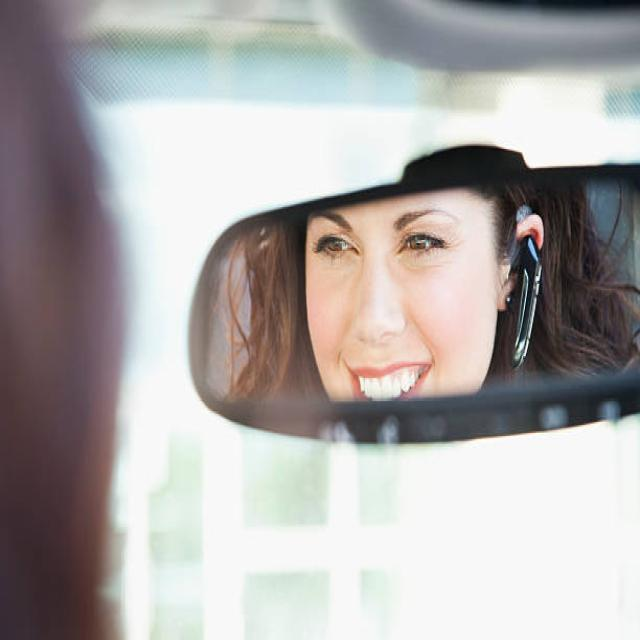airpods: (507, 206, 544, 376)
